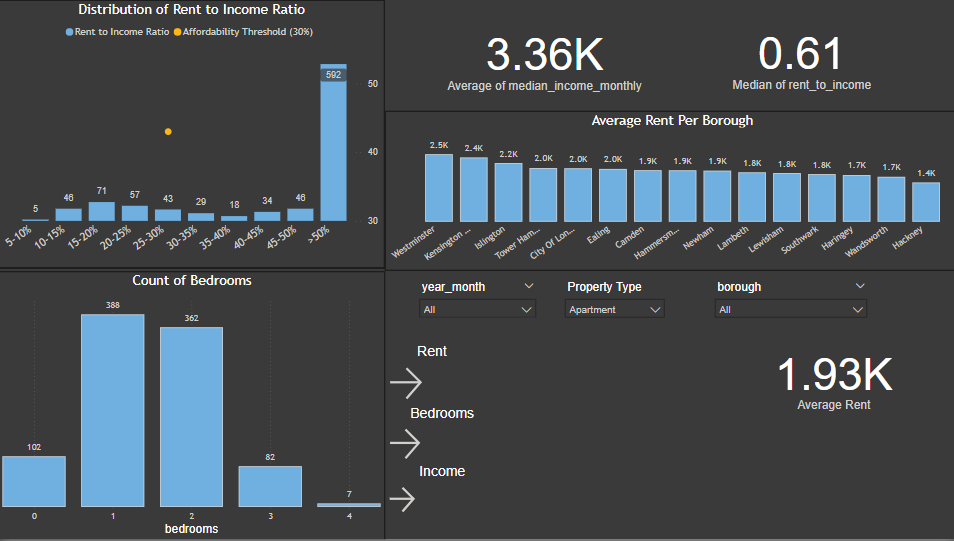

This screenshot's page, from the dashboard's own definition file:
{"tool":"powerbi","page":{"name":"London Rental Market – Overview","canvas":[1280,720],"ordinal":0},"visuals":[{"type":"card","fields":{"Values":["Avg(fact_listings.median_income_monthly)"]},"box":[532.5,15,392.5,120],"z":0},{"type":"card","fields":{"Values":["Median(fact_listings.rent_to_income)"]},"box":[864.6,0,414.9,149.9],"z":1000},{"type":"columnChart","title":"Average Rent Per Borough","fields":{"Category":["fact_listings.borough"],"Y":["Avg(fact_listings.price_amount)"]},"box":[515,147.5,765,212.5],"z":2000},{"type":"slicer","fields":{"Values":["fact_listings.year_month"]},"box":[552.5,367.5,175,55],"z":3000},{"type":"slicer","fields":{"Values":["fact_listings.property_type"]},"box":[745,367.5,152.5,65],"z":4000},{"type":"slicer","fields":{"Values":["fact_listings.borough"]},"box":[945,367.5,222.5,65],"z":5000},{"type":"card","fields":{"Values":["Avg(fact_listings.price_amount)"]},"box":[992.5,570,287.5,135],"z":6000},{"type":"lineStackedColumnComboChart","title":"Distribution of Rent to Income Ratio","fields":{"Category":["fact_listings.rent to income bin"],"Y":["Measure Table.listing count"],"Y2":["Measure Table.Threshold line"]},"box":[0,0,515,357.5],"z":8000},{"type":"columnChart","title":"Count of Bedrooms","fields":{"Category":["fact_listings.bedrooms"],"Y":["Measure Table.listing count"]},"box":[0,362,516,358],"z":9000},{"type":"actionButton","title":"Rent ","box":[515,457.5,125,80],"z":11500},{"type":"actionButton","title":"Income","box":[515,617.5,152.5,70],"z":12000},{"type":"actionButton","title":"Bedrooms","box":[515,540,152.5,77.5],"z":13000}]}

Visuals, with their boxes in screenshot pixels (x1, y1, x2, y2), scaled from the page's 1280x720 canvas onto the 954x541 screenshot:
card - Avg(fact_listings.median_income_monthly): <box>397,11,689,101</box>
card - Median(fact_listings.rent_to_income): <box>644,0,953,113</box>
"Average Rent Per Borough" columnChart: <box>384,111,953,270</box>
slicer - fact_listings.year_month: <box>412,276,542,317</box>
slicer - fact_listings.property_type: <box>555,276,669,325</box>
slicer - fact_listings.borough: <box>704,276,870,325</box>
card - Avg(fact_listings.price_amount): <box>740,428,953,530</box>
"Distribution of Rent to Income Ratio" lineStackedColumnComboChart: <box>0,0,384,269</box>
"Count of Bedrooms" columnChart: <box>0,272,385,540</box>
"Rent " actionButton: <box>384,344,477,404</box>
"Income" actionButton: <box>384,464,497,517</box>
"Bedrooms" actionButton: <box>384,406,497,464</box>
